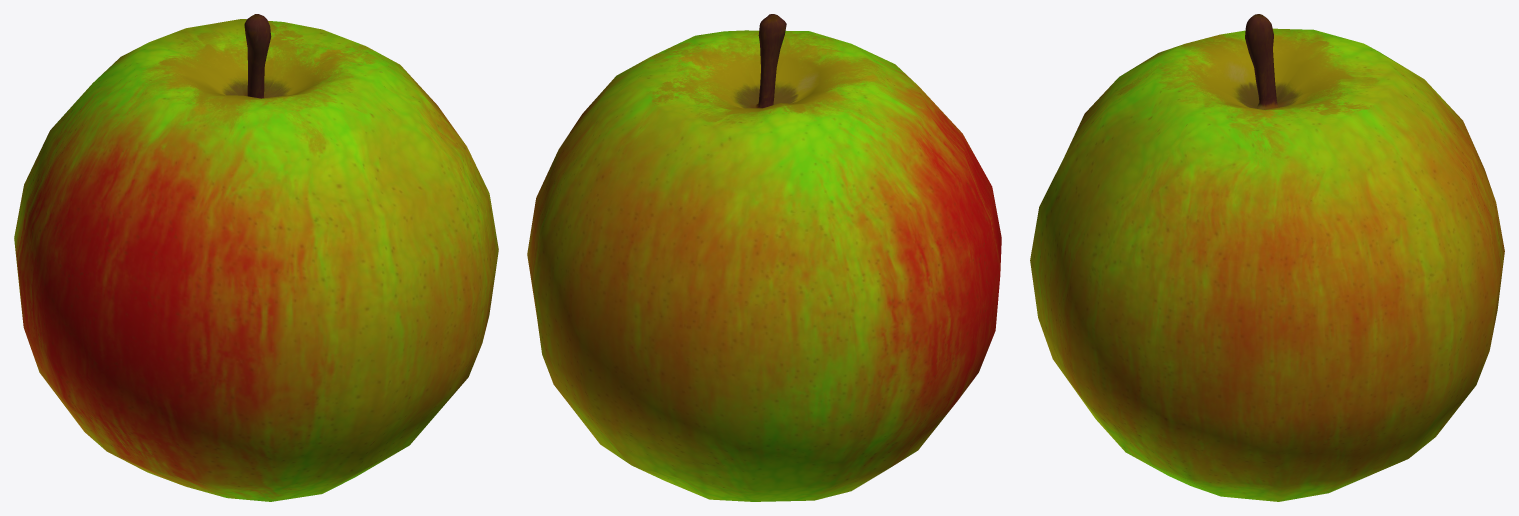
The model's file is apple.obj.
3 renders of one model, left to right at view 1: azimuth 30°, elevation 25°; view 2: azimuth 150°, elevation 25°; view 3: azimuth 270°, elevation 25°, orthographic.
Parts seen in each view (by area): view 1: Plane001; view 2: Plane001; view 3: Plane001.
Part boxes in pixels (left/top/right/bottom): Plane001: left=14, top=14, right=498, bottom=501; Plane001: left=527, top=14, right=1001, bottom=501; Plane001: left=1030, top=14, right=1504, bottom=501.
Bounding box in the file's own units: 2 × 2.09 × 1.99.
1 material, 1 textured.
